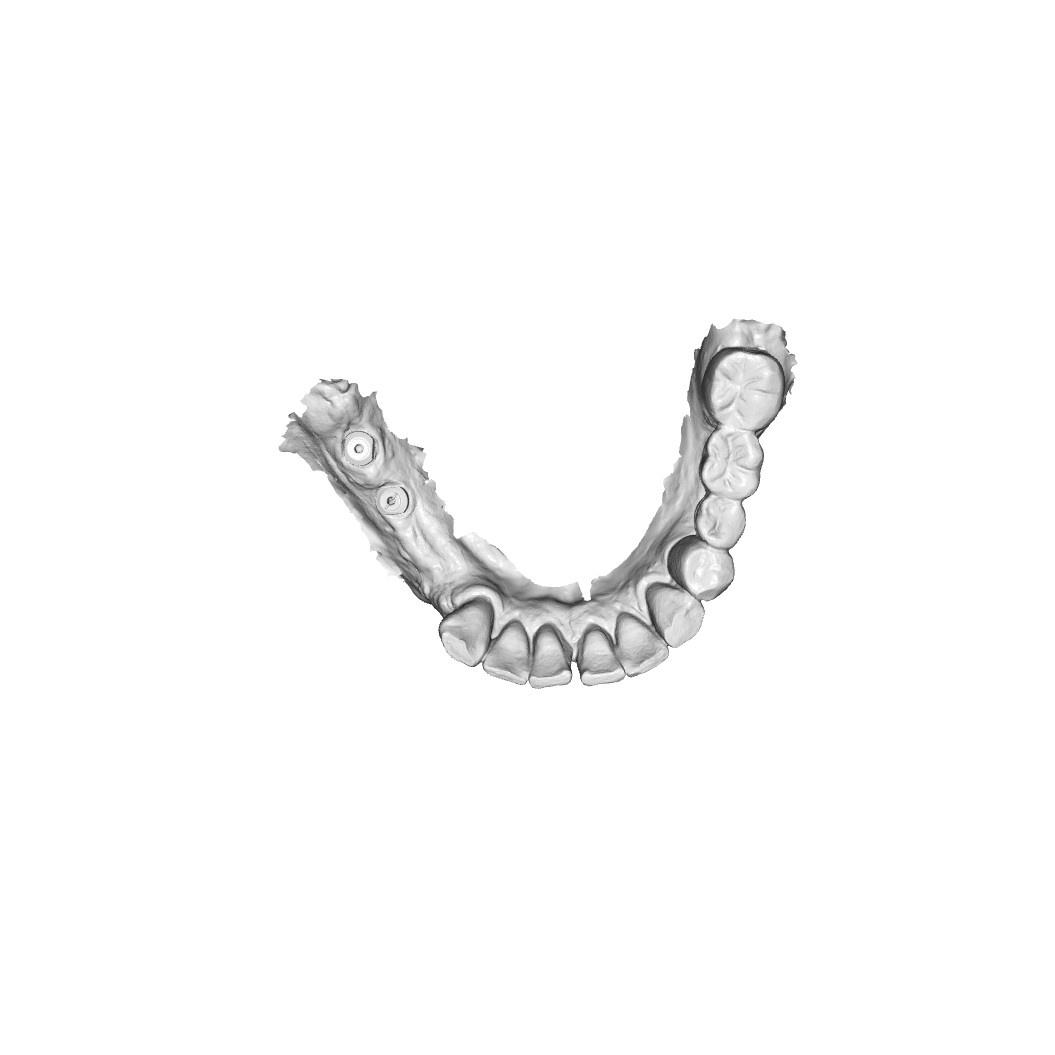canine: (645, 583, 706, 650), (438, 598, 494, 668)
implant: (338, 425, 383, 468)
implant_minus: (370, 478, 410, 522)
incisor: (480, 613, 538, 690), (614, 609, 672, 680), (576, 627, 627, 689), (528, 623, 572, 694)
molar: (699, 349, 787, 430)
premolar: (669, 536, 737, 605), (698, 431, 765, 501), (693, 492, 746, 551)
